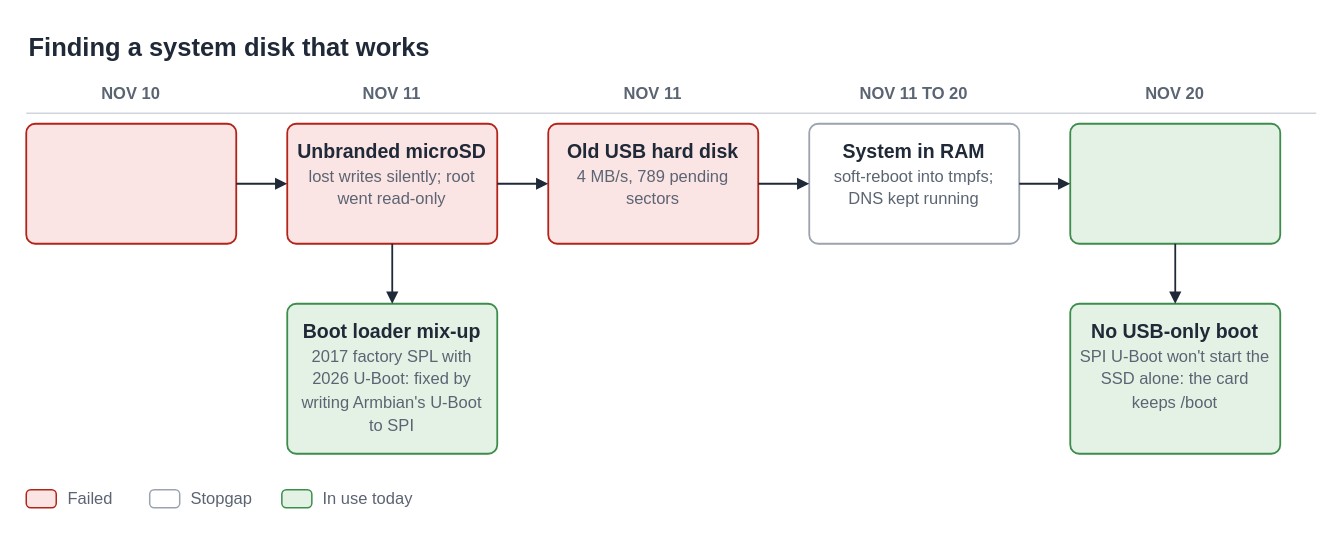
The diagram is 1344 pixels wide and 539 high, and some of its shapes have lost their labels. Each missing label, with the centre of its shape:
"USB 2.0 stick 73 KB/s writes; an OS update took 2 h 16 min" goes at (x=130, y=183).
"USB 3 SSD, 128 GB 334 MB/s reads; runs everything" goes at (x=1174, y=183).
